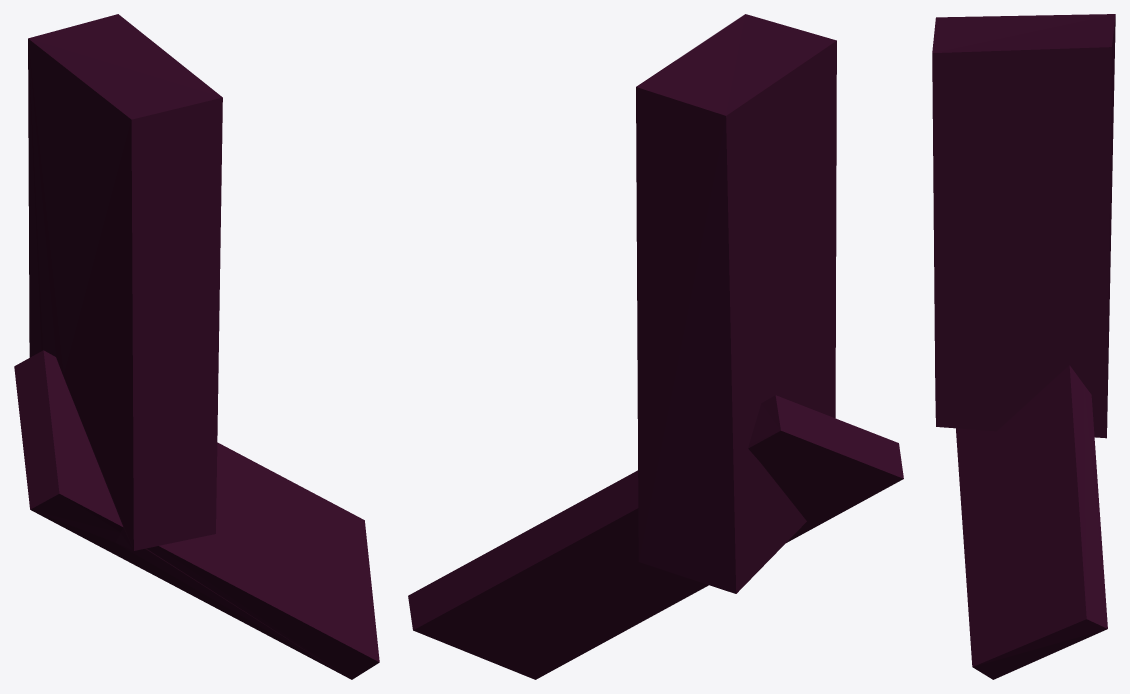
3 renders of one model, left to right at view 1: azimuth 30°, elevation 25°; view 2: azimuth 150°, elevation 25°; view 3: azimuth 270°, elevation 25°, orthographic. The views are drawn at different scales.
Parts seen in each view (by area): view 1: 399_Cube.1619; view 2: 399_Cube.1619; view 3: 399_Cube.1619.
Part boxes in pixels (x1,y1,x2,y2): 399_Cube.1619: (14, 14, 379, 679); 399_Cube.1619: (408, 14, 903, 679); 399_Cube.1619: (932, 14, 1115, 679).
Bounding box in the file's own units: 11.55 × 17.93 × 5.29.
